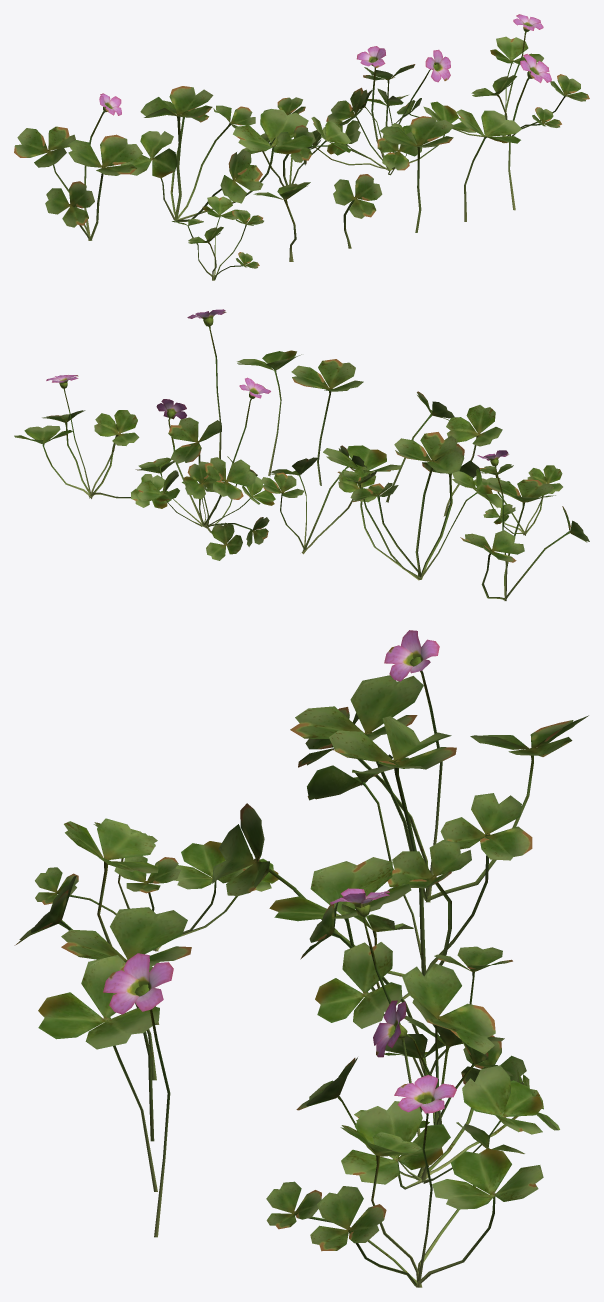
The model's file is veg_shrub_sorrel_01.glb.
3 renders of one model, top to bottom at view 1: azimuth 30°, elevation 25°; view 2: azimuth 150°, elevation 25°; view 3: azimuth 270°, elevation 25°, orthographic. The views are drawn at different scales.
Visible parts, largest first — view 1: shrub_sorrel_01_b, shrub_sorrel_01_a, shrub_sorrel_01_d, shrub_sorrel_01_e, shrub_sorrel_01_c, shrub_sorrel_01_f, shrub_sorrel_01_i, shrub_sorrel_01_h, shrub_sorrel_01_j, shrub_sorrel_01_k, shrub_sorrel_01_g; view 2: shrub_sorrel_01_d, shrub_sorrel_01_b, shrub_sorrel_01_e, shrub_sorrel_01_a, shrub_sorrel_01_c, shrub_sorrel_01_i, shrub_sorrel_01_g, shrub_sorrel_01_f, shrub_sorrel_01_j, shrub_sorrel_01_k, shrub_sorrel_01_h; view 3: shrub_sorrel_01_b, shrub_sorrel_01_d, shrub_sorrel_01_e, shrub_sorrel_01_a, shrub_sorrel_01_c, shrub_sorrel_01_j, shrub_sorrel_01_f, shrub_sorrel_01_i, shrub_sorrel_01_k, shrub_sorrel_01_g, shrub_sorrel_01_h.
Boxes of the visible parts, x1,y1,x2,y2 form: shrub_sorrel_01_b: [120, 86, 312, 221]; shrub_sorrel_01_a: [14, 93, 142, 240]; shrub_sorrel_01_d: [303, 46, 475, 175]; shrub_sorrel_01_e: [396, 14, 589, 143]; shrub_sorrel_01_c: [240, 97, 351, 186]; shrub_sorrel_01_f: [172, 196, 263, 280]; shrub_sorrel_01_i: [380, 116, 454, 232]; shrub_sorrel_01_h: [333, 174, 382, 248]; shrub_sorrel_01_j: [456, 109, 521, 221]; shrub_sorrel_01_k: [508, 54, 551, 210]; shrub_sorrel_01_g: [253, 182, 310, 261]; shrub_sorrel_01_d: [135, 377, 275, 560]; shrub_sorrel_01_b: [323, 432, 503, 580]; shrub_sorrel_01_e: [14, 375, 171, 508]; shrub_sorrel_01_a: [460, 450, 589, 600]; shrub_sorrel_01_c: [261, 445, 376, 554]; shrub_sorrel_01_i: [291, 359, 363, 485]; shrub_sorrel_01_g: [443, 405, 502, 516]; shrub_sorrel_01_f: [465, 464, 562, 535]; shrub_sorrel_01_j: [237, 350, 301, 476]; shrub_sorrel_01_k: [187, 309, 226, 458]; shrub_sorrel_01_h: [386, 391, 454, 502]; shrub_sorrel_01_b: [212, 716, 532, 1003]; shrub_sorrel_01_d: [296, 888, 559, 1189]; shrub_sorrel_01_e: [266, 1075, 543, 1287]; shrub_sorrel_01_a: [290, 630, 588, 902]; shrub_sorrel_01_c: [300, 897, 512, 1077]; shrub_sorrel_01_j: [38, 955, 159, 1191]; shrub_sorrel_01_f: [35, 822, 278, 951]; shrub_sorrel_01_i: [61, 907, 191, 1141]; shrub_sorrel_01_k: [103, 953, 173, 1237]; shrub_sorrel_01_g: [64, 818, 159, 1024]; shrub_sorrel_01_h: [14, 876, 156, 1080].
Bounding box in the file's own units: 0.3929 × 0.1044 × 0.191.
1 material, 1 textured.
